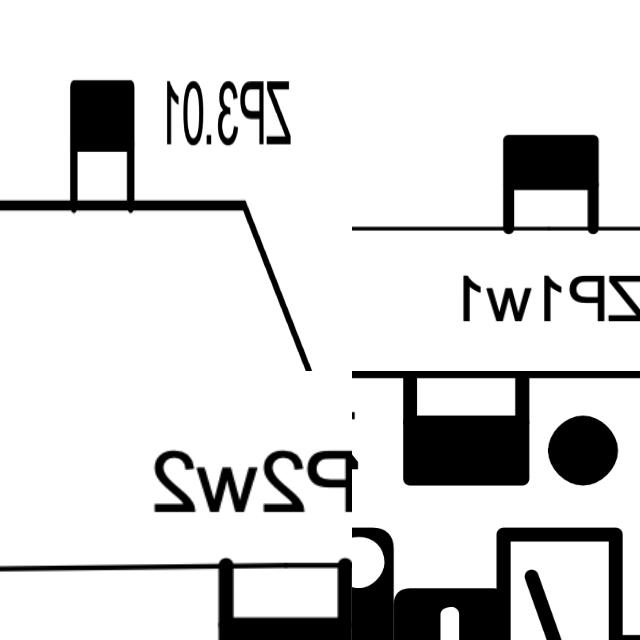radzaehler: (374, 371, 554, 507), (488, 117, 612, 255), (207, 545, 352, 640), (66, 71, 142, 221)
